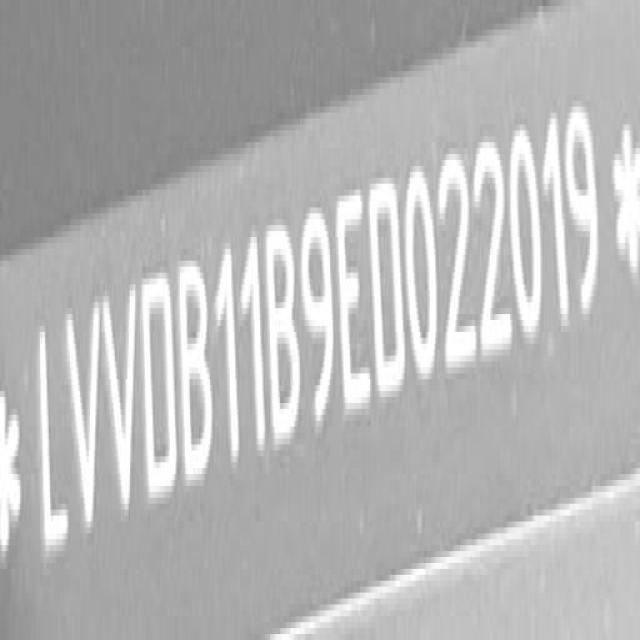0: (507, 119, 547, 342), (402, 158, 442, 378)
1: (540, 103, 572, 340), (240, 224, 268, 454), (214, 240, 240, 478)
2: (474, 140, 514, 371), (438, 142, 478, 366)
9: (564, 88, 601, 322), (300, 191, 334, 435)
B: (178, 241, 216, 483), (265, 215, 302, 448)
D: (139, 268, 180, 509), (369, 167, 410, 397)
E: (332, 171, 373, 408)
L: (38, 303, 68, 562)
V: (64, 292, 104, 531), (101, 290, 140, 514)
